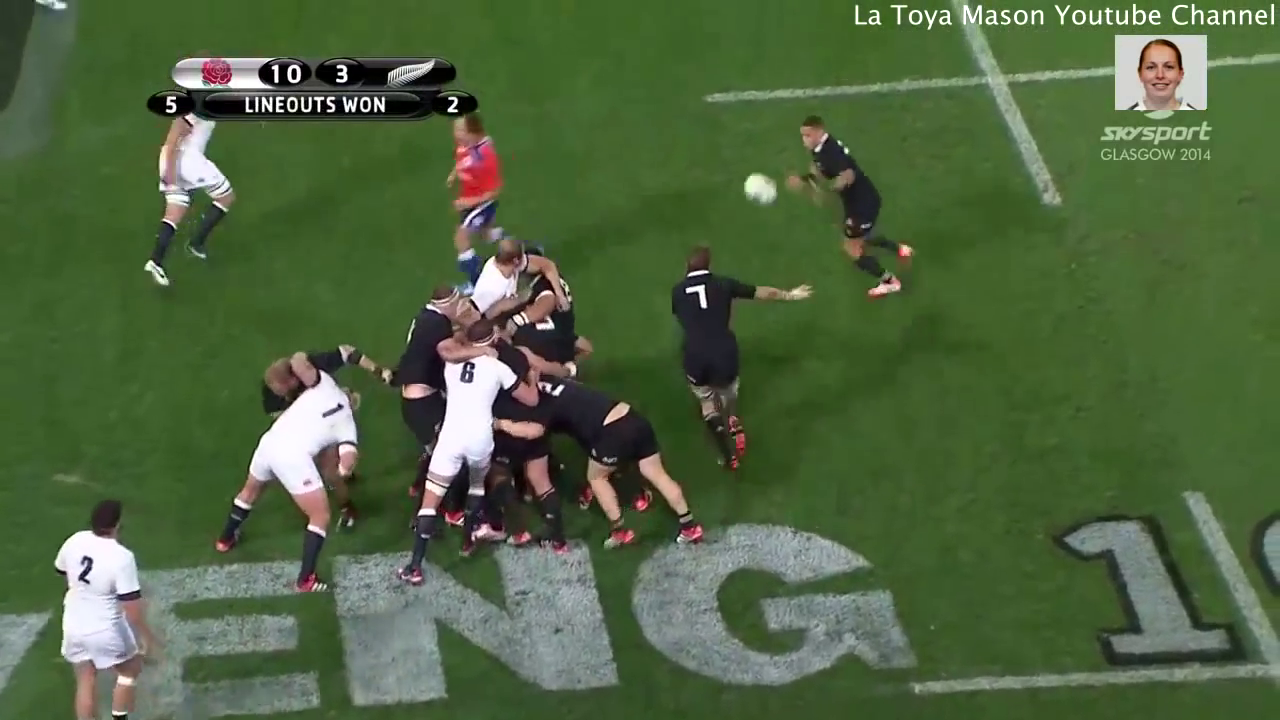10_metre: (699, 1, 1280, 215), (901, 480, 1280, 720)
ball: (737, 161, 793, 215)
player: (193, 344, 369, 604), (388, 325, 541, 594), (661, 236, 817, 488), (516, 363, 710, 555), (784, 108, 926, 309), (39, 486, 159, 720), (135, 95, 245, 295), (437, 106, 527, 301), (389, 266, 462, 460), (249, 330, 397, 422), (453, 235, 570, 317)
